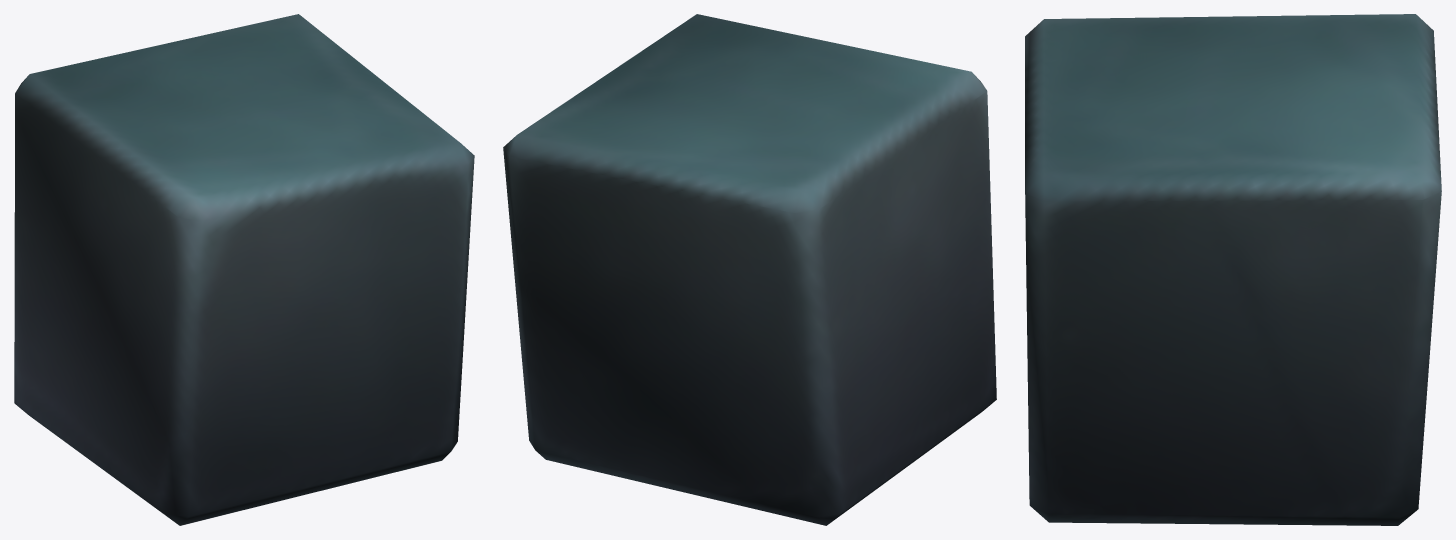
The model's file is SM_Gem_Titanium_Piece_003.fbx.
3 renders of one model, left to right at view 1: azimuth 30°, elevation 25°; view 2: azimuth 150°, elevation 25°; view 3: azimuth 270°, elevation 25°, orthographic. The views are drawn at different scales.
Parts seen in each view (by area): view 1: SM_Gem_Titanium_Piece_003; view 2: SM_Gem_Titanium_Piece_003; view 3: SM_Gem_Titanium_Piece_003.
Boxes of the visible parts, <box> form: SM_Gem_Titanium_Piece_003: <box>14,14,474,525</box>; SM_Gem_Titanium_Piece_003: <box>503,14,996,525</box>; SM_Gem_Titanium_Piece_003: <box>1025,14,1441,525</box>.
Bounding box in the file's own units: 11.72 × 11.8 × 11.97.
